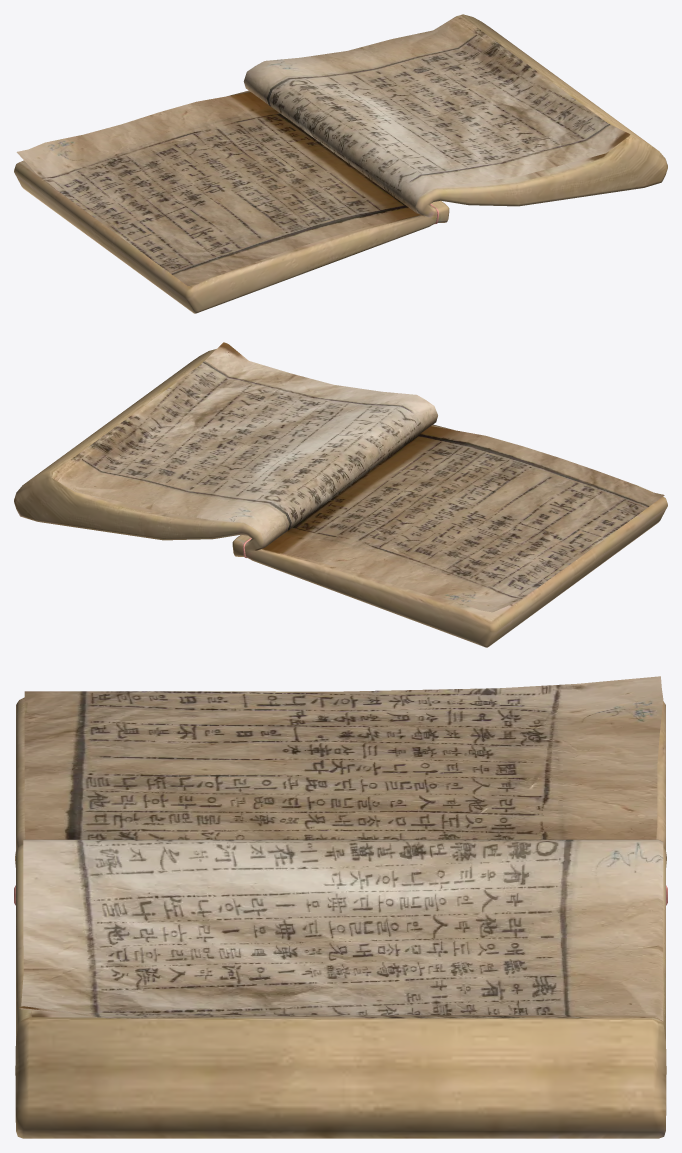
File: openbook.glb
3 renders of one model, top to bottom at view 1: azimuth 30°, elevation 25°; view 2: azimuth 150°, elevation 25°; view 3: azimuth 270°, elevation 25°, orthographic. The views are drawn at different scales.
Visible parts, largest first — view 1: SM_CCJ_OpenBook_M_CCJ_OpenBook_0; view 2: SM_CCJ_OpenBook_M_CCJ_OpenBook_0; view 3: SM_CCJ_OpenBook_M_CCJ_OpenBook_0.
Part boxes in pixels (x1=…): SM_CCJ_OpenBook_M_CCJ_OpenBook_0: x1=14, y1=14, x2=667, y2=313; SM_CCJ_OpenBook_M_CCJ_OpenBook_0: x1=14, y1=342, x2=667, y2=647; SM_CCJ_OpenBook_M_CCJ_OpenBook_0: x1=14, y1=676, x2=667, y2=1138.
Bounding box in the file's own units: 0.427 × 0.0622 × 0.2704.
Materials: 1 (1 with a texture image).
